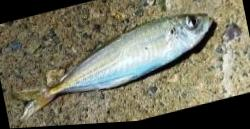fish: (17, 15, 212, 120)
